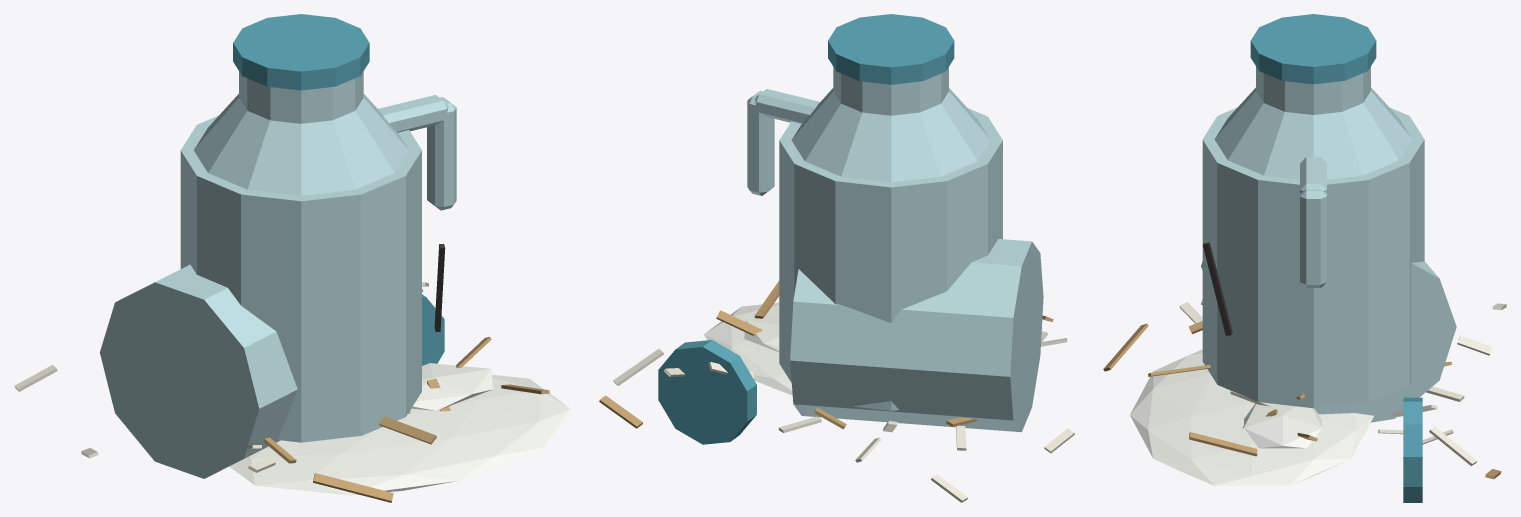
Rendered from sm_cargo_content_milk_canister.glb.
The picture shows the model from 3 angles, left to right: view 1: azimuth 30°, elevation 25°; view 2: azimuth 150°, elevation 25°; view 3: azimuth 270°, elevation 25°; orthographic projection. The views are drawn at different scales.
Parts seen in each view (by area): view 1: Intact, Ruined, Filler, Damage; view 2: Intact, Ruined, Filler, Damage; view 3: Intact, Ruined, Filler, Damage.
Boxes of the visible parts, x1,y1,x2,y2 form: Intact: (180, 14, 456, 442); Ruined: (100, 264, 570, 495); Filler: (14, 282, 549, 502); Damage: (411, 243, 493, 410); Intact: (747, 14, 1002, 410); Ruined: (658, 239, 1043, 444); Filler: (599, 281, 1074, 502); Damage: (744, 317, 779, 351); Intact: (1202, 14, 1424, 408); Ruined: (1130, 261, 1456, 502); Filler: (1103, 299, 1506, 479); Damage: (1203, 242, 1321, 448).
Bounding box in the file's own units: 0.5863 × 0.5675 × 0.5273.
